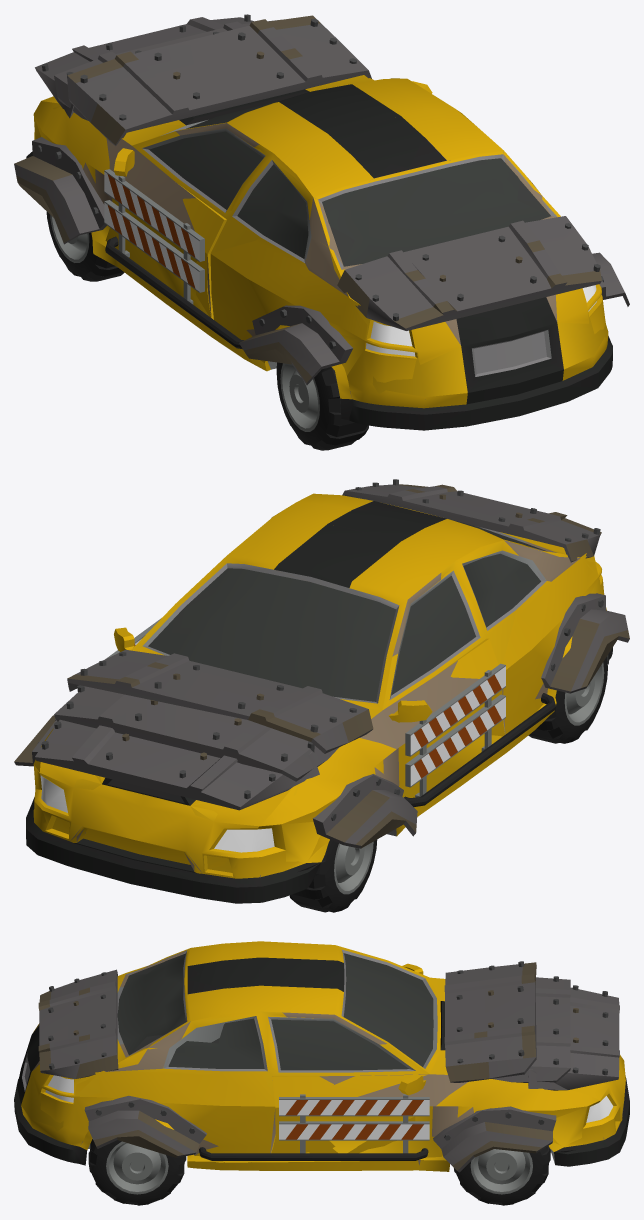
The model's file is car_fury.glb.
3 renders of one model, top to bottom at view 1: azimuth 30°, elevation 25°; view 2: azimuth 150°, elevation 25°; view 3: azimuth 270°, elevation 25°, orthographic. The views are drawn at different scales.
Visible parts, largest first — view 1: body_mesh, armor_2_mesh, armor_1_mesh, wheel_RL_mesh, wheel_FL_mesh; view 2: body_mesh, armor_2_mesh, armor_1_mesh, wheel_FL_mesh, wheel_RL_mesh; view 3: body_mesh, armor_2_mesh, armor_1_mesh, wheel_RR_mesh, wheel_FR_mesh.
Part boxes in pixels (bbox=[...]): body_mesh: bbox=[26, 75, 612, 430]; armor_2_mesh: bbox=[27, 14, 610, 430]; armor_1_mesh: bbox=[14, 37, 629, 385]; wheel_RL_mesh: bbox=[276, 362, 368, 450]; wheel_FL_mesh: bbox=[46, 211, 124, 281]; body_mesh: bbox=[26, 493, 612, 903]; armor_2_mesh: bbox=[26, 479, 610, 903]; armor_1_mesh: bbox=[14, 593, 629, 848]; wheel_FL_mesh: bbox=[289, 839, 377, 912]; wheel_RL_mesh: bbox=[528, 657, 607, 743]; body_mesh: bbox=[14, 941, 629, 1171]; armor_2_mesh: bbox=[18, 941, 629, 1171]; armor_1_mesh: bbox=[84, 965, 556, 1172]; wheel_RR_mesh: bbox=[88, 1139, 186, 1205]; wheel_FR_mesh: bbox=[454, 1146, 550, 1205].
Bounding box in the file's own units: 2.25 × 1.42 × 4.3.
Materials: 3 (1 with a texture image).
